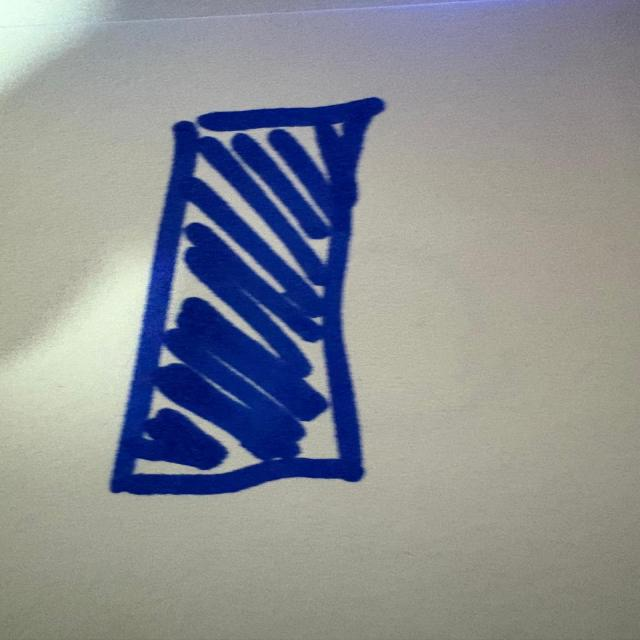Rectangle: (102, 91, 412, 512)
